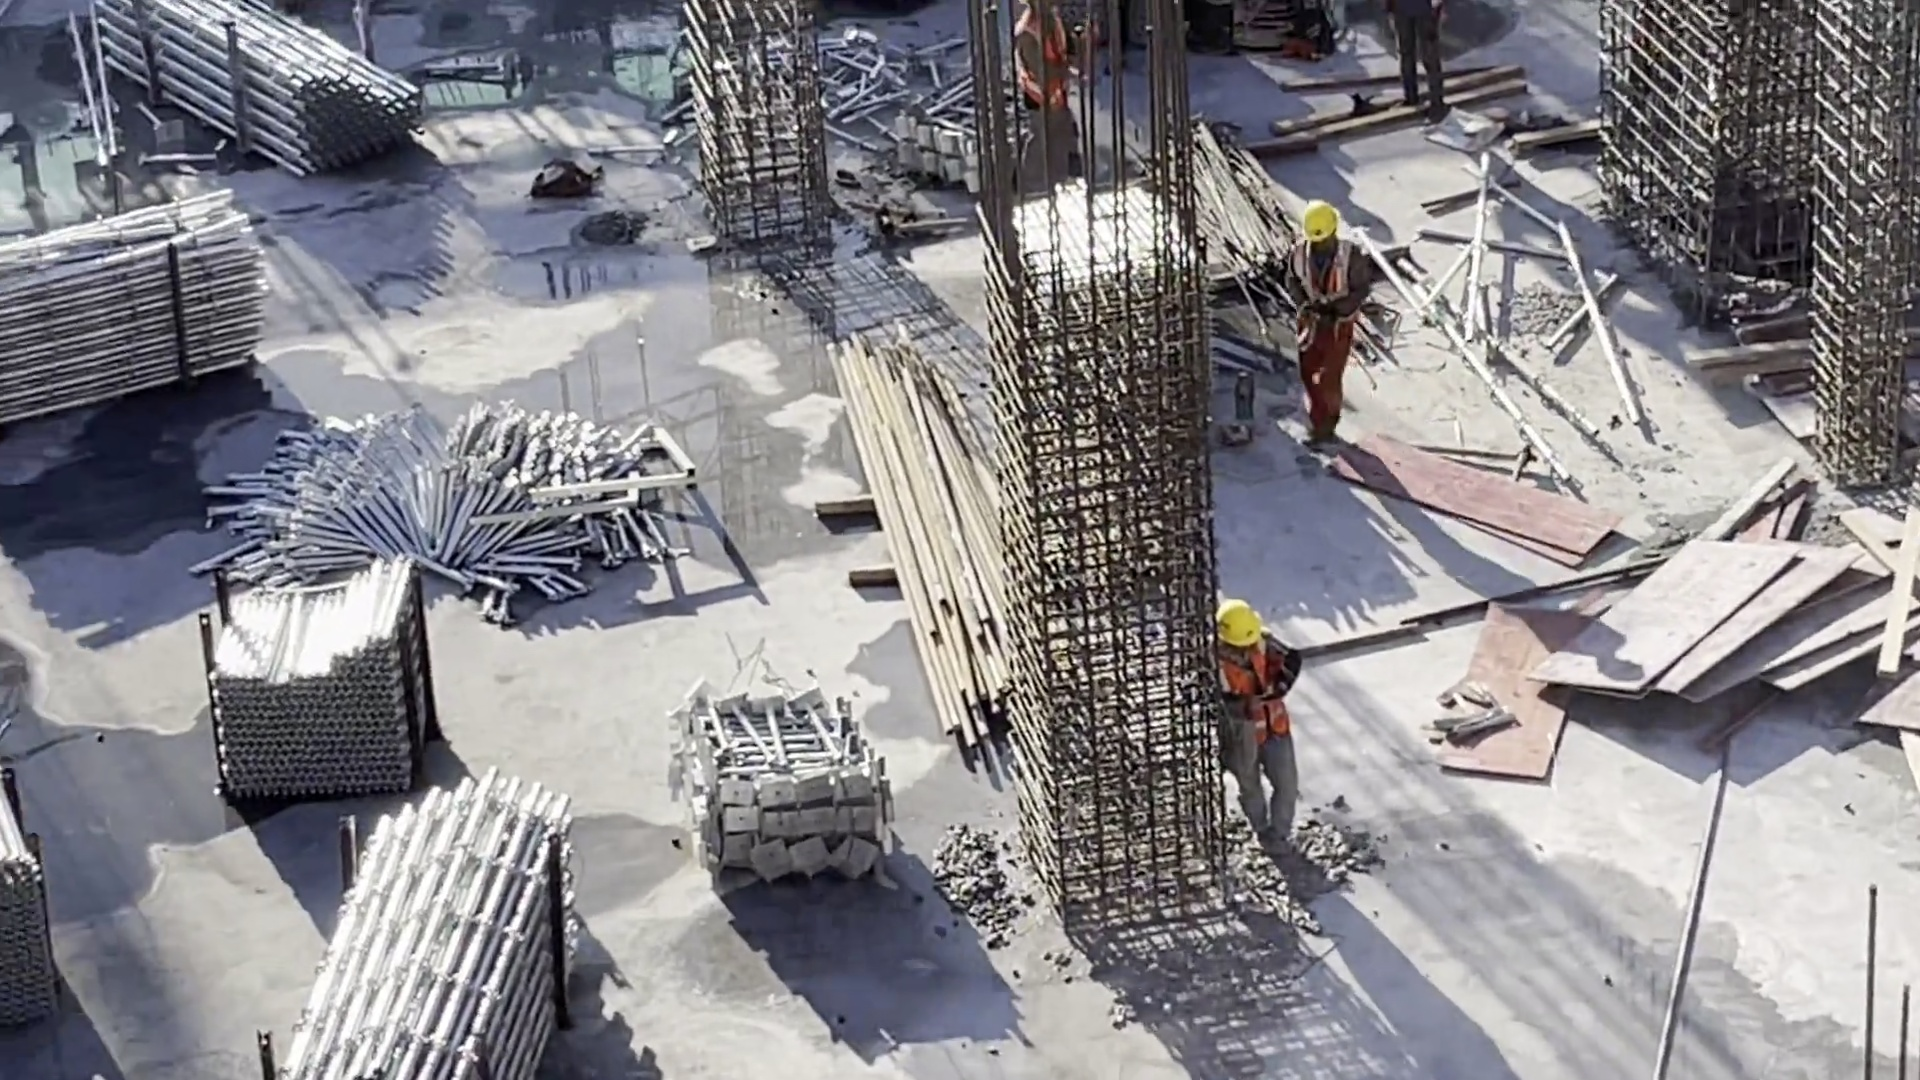board: (1549, 530, 1885, 719)
helmet: (1214, 593, 1266, 646), (1301, 198, 1349, 245)
person: (1211, 594, 1315, 861), (1277, 195, 1362, 454), (1000, 1, 1092, 182)
scaffold: (266, 797, 603, 1080), (215, 409, 685, 593), (1, 180, 267, 420), (199, 565, 464, 798), (124, 1, 430, 171), (676, 680, 892, 884), (833, 38, 1014, 195)
vest: (1223, 636, 1294, 739), (1012, 10, 1077, 106), (1290, 243, 1353, 335)
